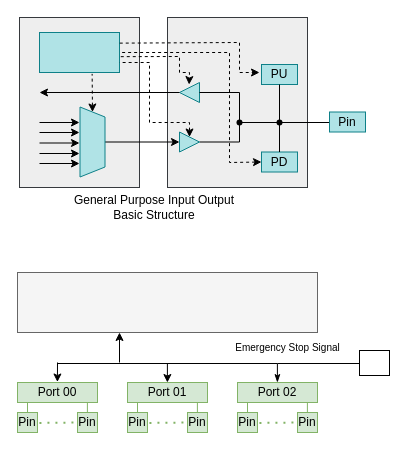
This 407x450 diagram has some shape labels left out. The shapes that lost their labels are listed below. From the top down, each one's box as (x1, y1, x2, y2) in pixels, then its label:
(38, 32, 120, 72): Control
(16, 272, 318, 332): Safety Management Unit
(358, 350, 390, 376): ES
